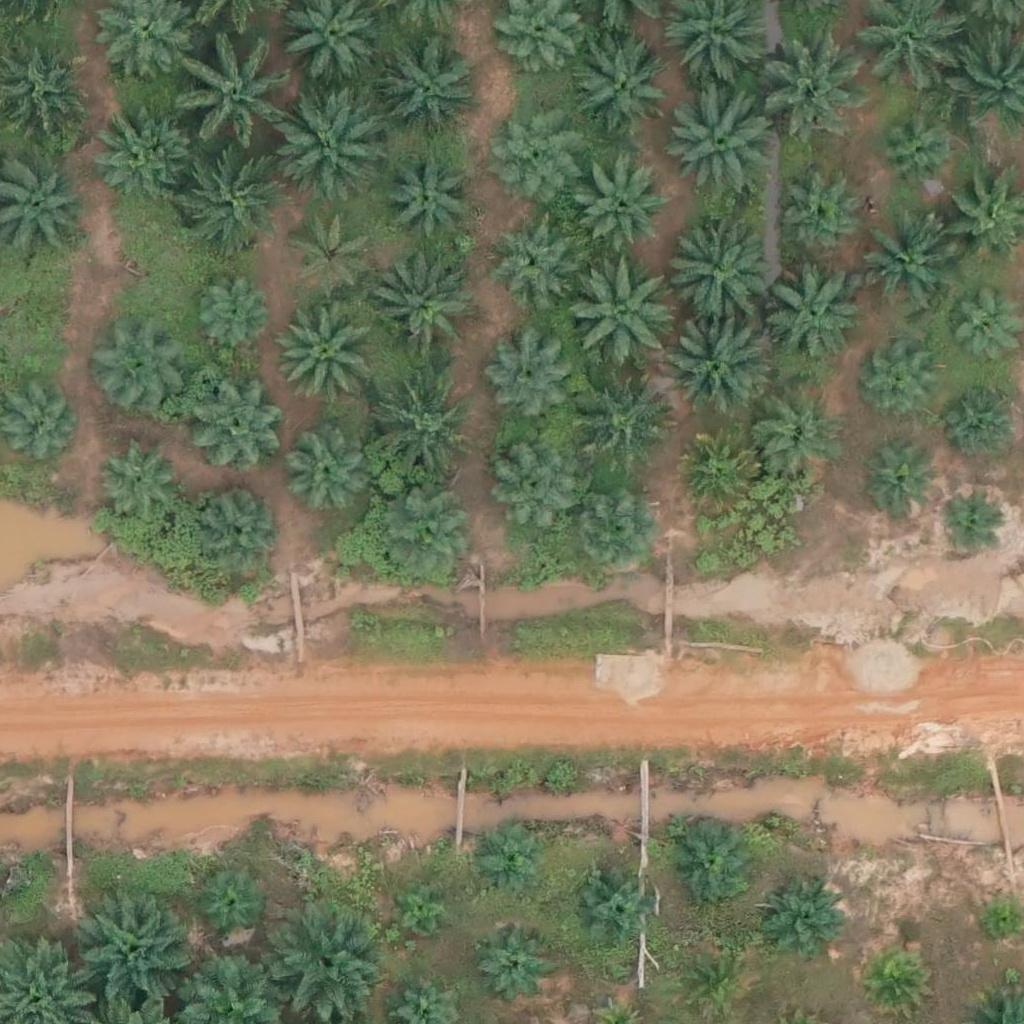Kelapa_Sawit: (658, 82, 771, 196), (268, 909, 381, 1022), (663, 309, 776, 422), (655, 213, 768, 326), (563, 255, 675, 369), (81, 894, 193, 1007), (755, 23, 867, 136), (363, 378, 475, 491), (276, 94, 388, 207), (179, 47, 291, 160), (174, 145, 286, 258), (852, 218, 952, 319), (762, 266, 862, 367), (568, 34, 668, 135), (570, 371, 670, 472), (372, 264, 472, 365), (276, 304, 376, 405), (87, 321, 187, 422), (89, 100, 189, 201), (381, 491, 481, 591), (185, 371, 285, 471), (379, 39, 478, 140), (568, 863, 656, 951), (670, 429, 758, 517), (873, 107, 961, 195), (580, 167, 668, 255), (482, 335, 570, 423), (196, 479, 284, 567), (493, 442, 580, 531), (291, 210, 378, 299), (669, 819, 756, 907), (778, 176, 865, 264), (755, 396, 842, 484), (571, 488, 658, 576), (483, 213, 570, 301), (492, 101, 579, 189), (386, 152, 473, 240), (190, 273, 277, 361), (288, 432, 375, 520), (96, 433, 183, 521), (765, 887, 840, 963), (474, 929, 549, 1005), (944, 293, 1019, 369), (946, 381, 1021, 457), (864, 348, 939, 423), (862, 448, 937, 523), (476, 826, 539, 889), (198, 874, 261, 937), (865, 947, 928, 1010), (935, 489, 998, 552), (688, 953, 750, 1016), (399, 886, 449, 936), (981, 901, 1018, 939)
